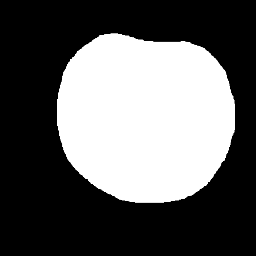mass: (52, 33, 227, 189)
